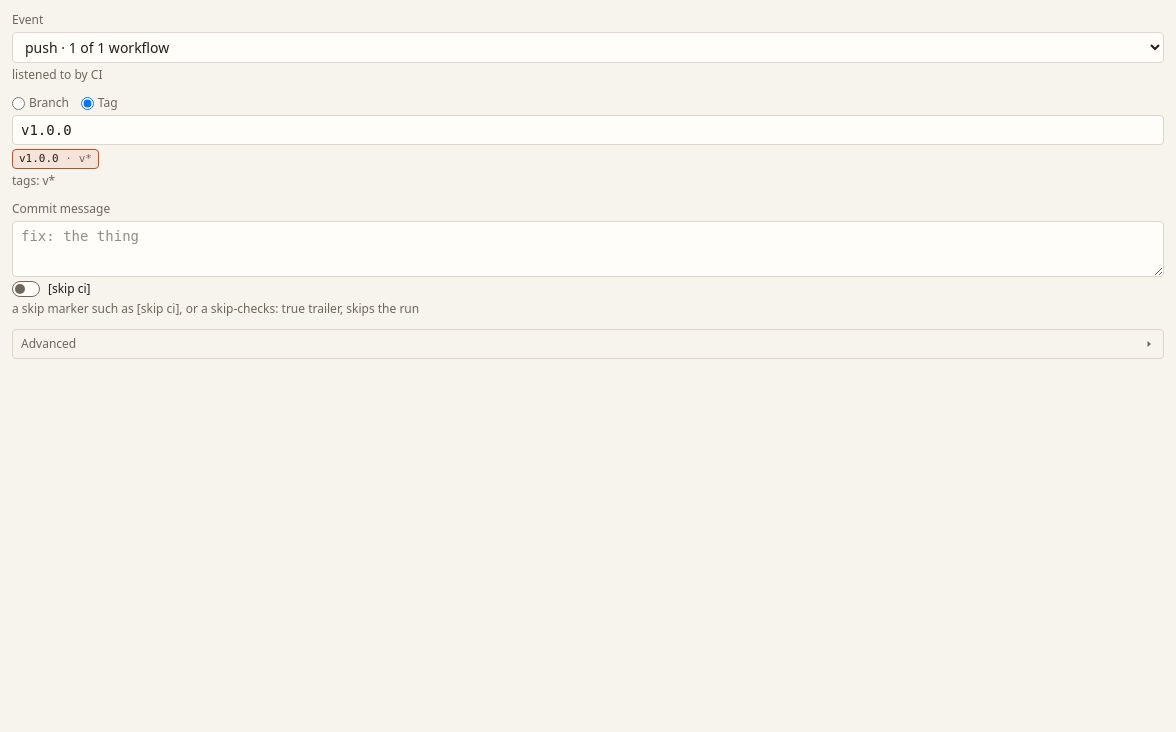
Test: the scenario form › offers the changed files to a pull request that follows a tag push
The image size is (1176, 732).
Expected: the field labelled "Changed files" is not shown
Select "pull_request · 1 of 1 workflow" in the dropdown at (588, 48), box [12,32,1164,63]
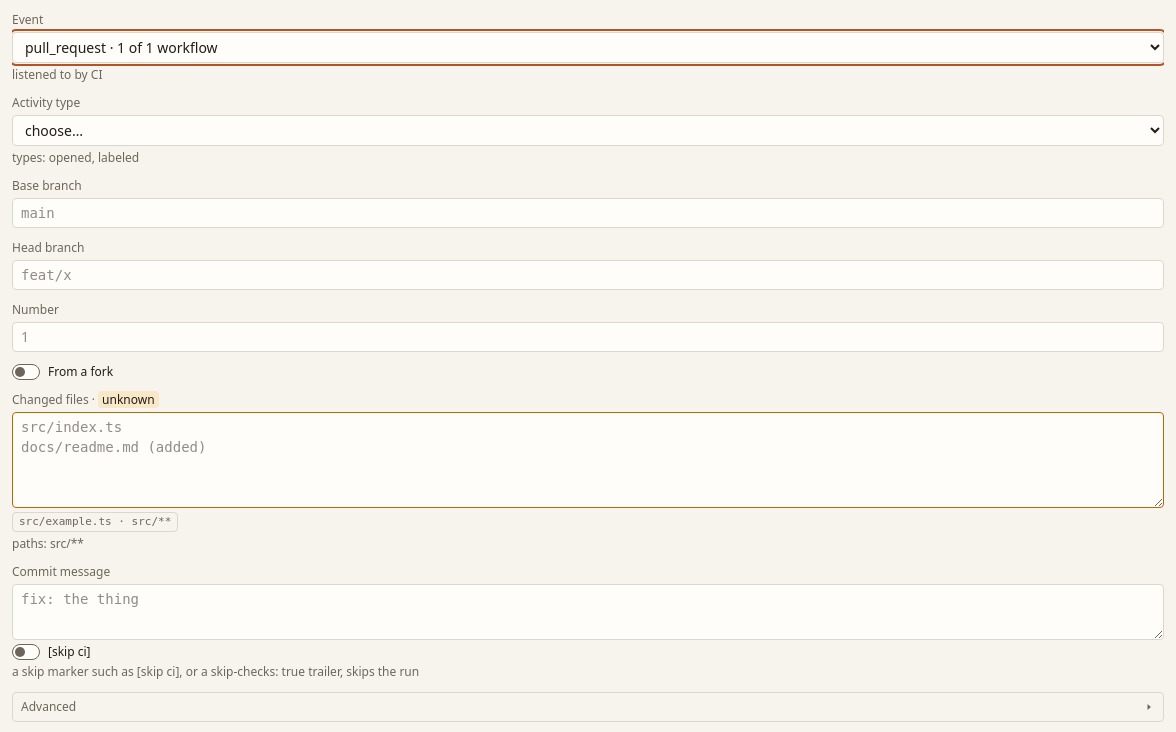
Now the text box labelled "Changed files · unknown" is shown, box [12,412,1164,508]
